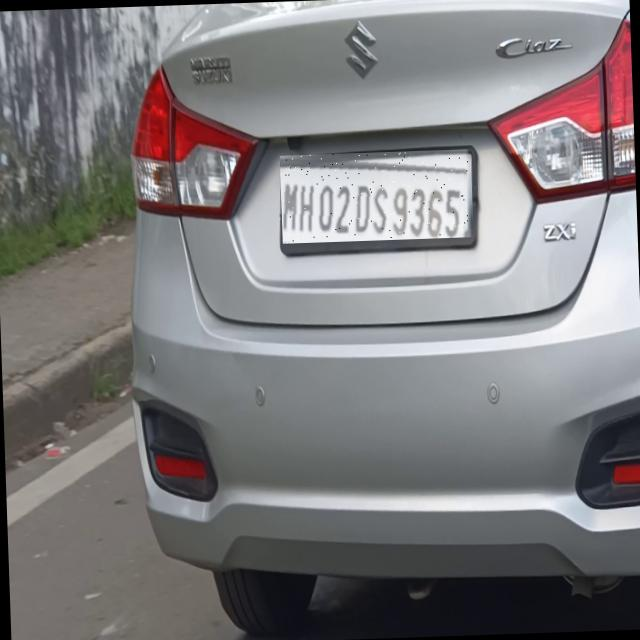Plate: (281, 150, 474, 245)
